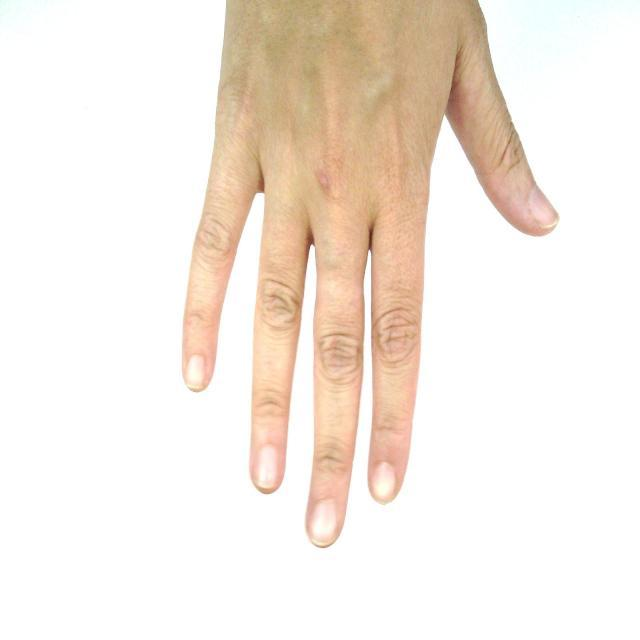Fingernail: (309, 501, 338, 545), (531, 189, 558, 227), (255, 446, 277, 487), (372, 464, 396, 501), (186, 356, 204, 388)
